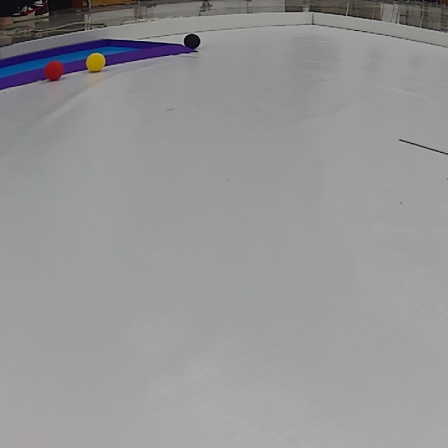black: (180, 30, 204, 51)
blue_aim: (0, 37, 209, 94)
red: (44, 60, 62, 84)
yellow: (85, 53, 107, 74)
